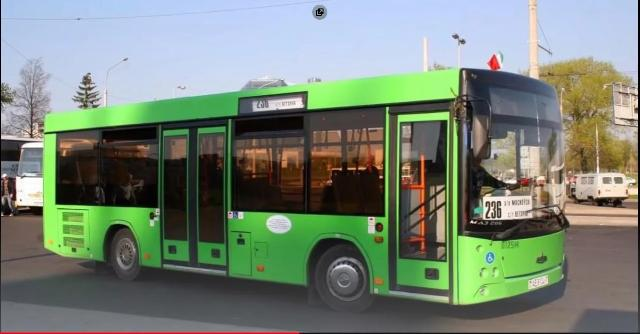bus: (39, 64, 588, 312), (14, 138, 50, 209)
